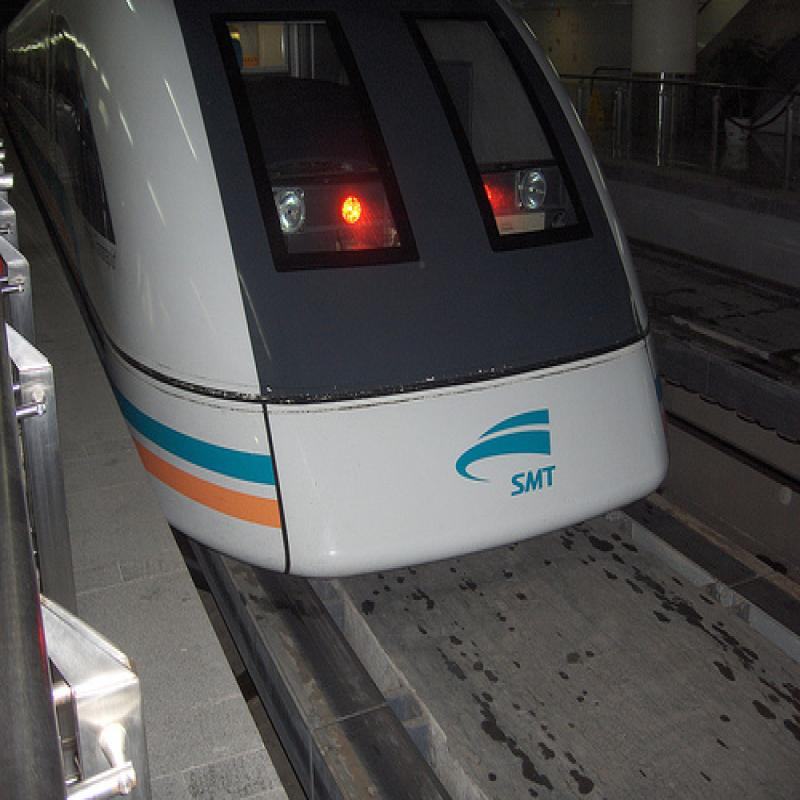train: (9, 1, 673, 586)
